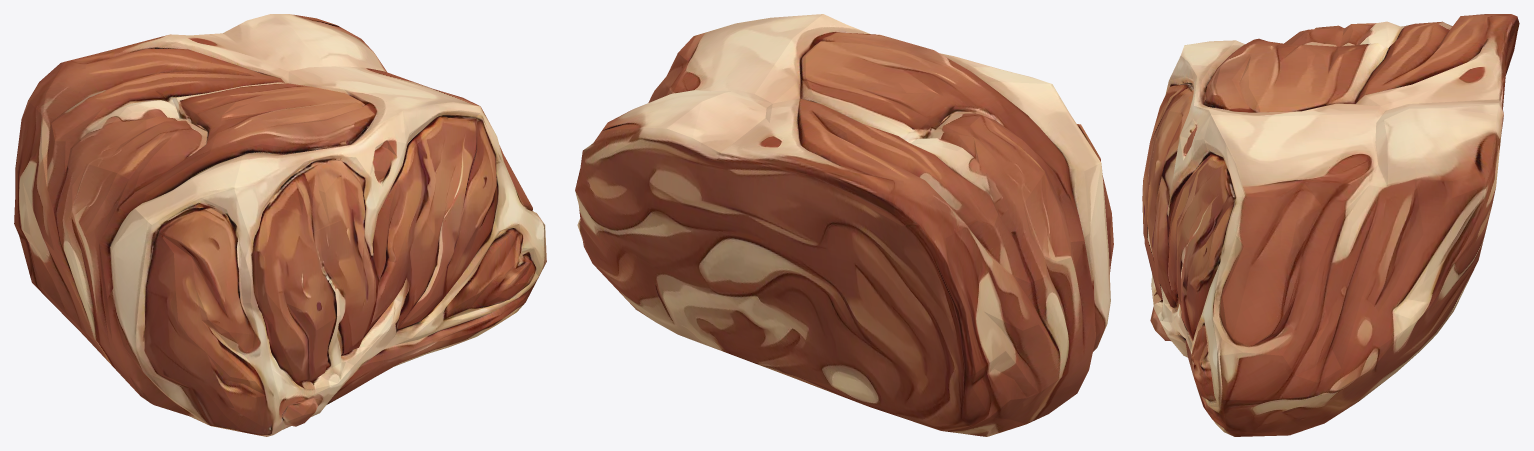
File: daging.glb
The picture shows the model from 3 angles, left to right: view 1: azimuth 30°, elevation 25°; view 2: azimuth 150°, elevation 25°; view 3: azimuth 270°, elevation 25°; orthographic projection. The views are drawn at different scales.
Visible parts, largest first — view 1: model; view 2: model; view 3: model.
Part boxes in pixels (x1=…): model: x1=14, y1=14, x2=546, y2=436; model: x1=575, y1=14, x2=1113, y2=436; model: x1=1142, y1=14, x2=1519, y2=436.
Bounding box in the file's own units: 1.89 × 1.25 × 1.37.
Materials: 1 (1 with a texture image).
